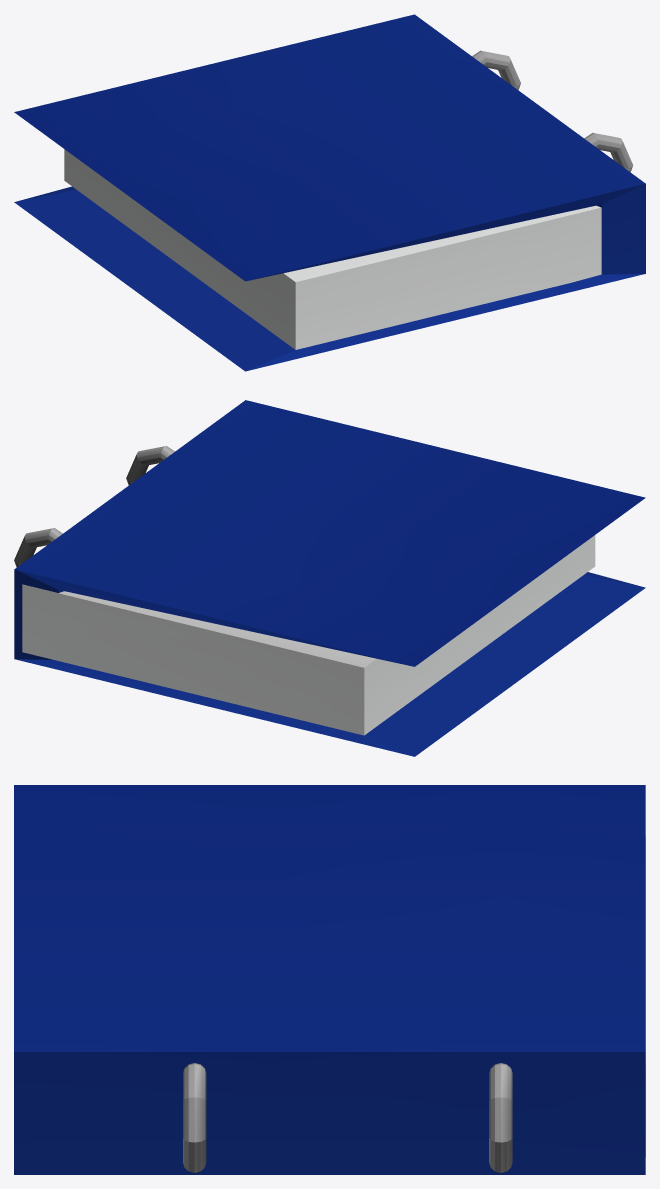
3 views of the same model, one above another, from view 1: azimuth 30°, elevation 25°; view 2: azimuth 150°, elevation 25°; view 3: azimuth 270°, elevation 25° (orthographic). The views are drawn at different scales.
Visible parts, largest first — view 1: Folder; view 2: Folder; view 3: Folder.
Boxes of the visible parts, x1,y1,x2,y2 form: Folder: (14,14,645,371); Folder: (14,400,645,756); Folder: (14,785,645,1174).
Bounding box in the file's own units: 70.95 × 13.48 × 62.79.
